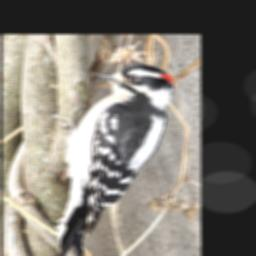Woodpecker: (53, 64, 174, 256)
